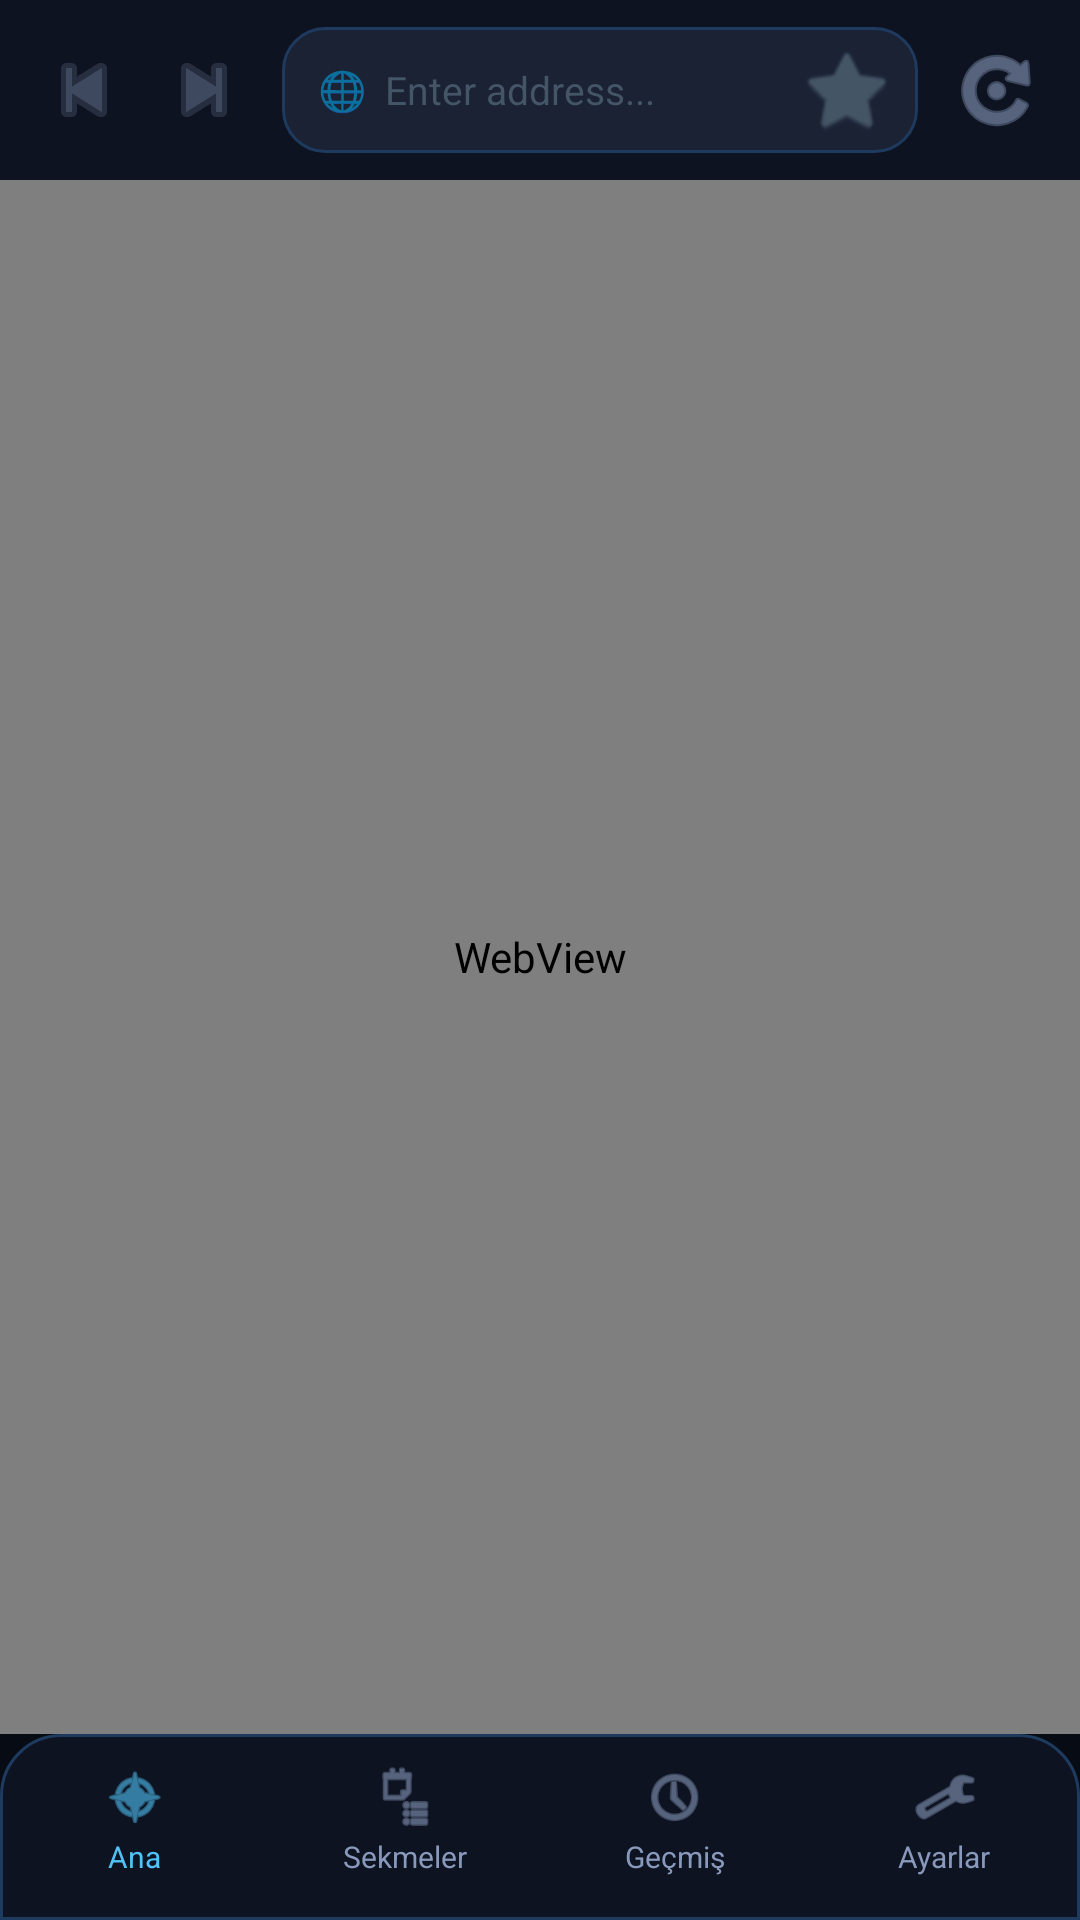

Screen size 1080*1920. Icon name, then its box in pixels as detection(x1, y1, x2, y2):
agenda: detection(382, 1767, 428, 1826)
compass: detection(109, 1771, 161, 1823)
next: detection(181, 63, 227, 117)
previous: detection(61, 63, 107, 117)
rotate: detection(961, 55, 1031, 126)
star off: detection(809, 54, 885, 127)
